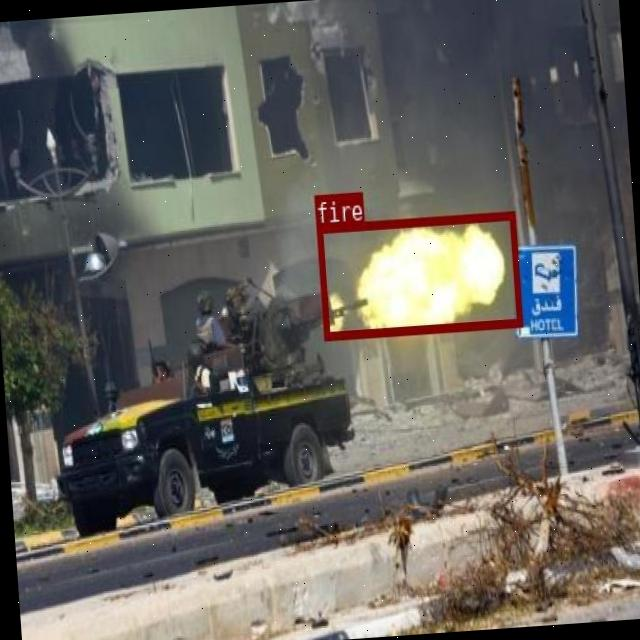fire: (316, 209, 522, 339)
